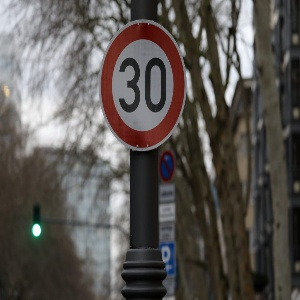30 speed: (99, 20, 187, 151)
